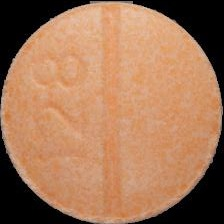0615-2573: (0, 0, 224, 224)
